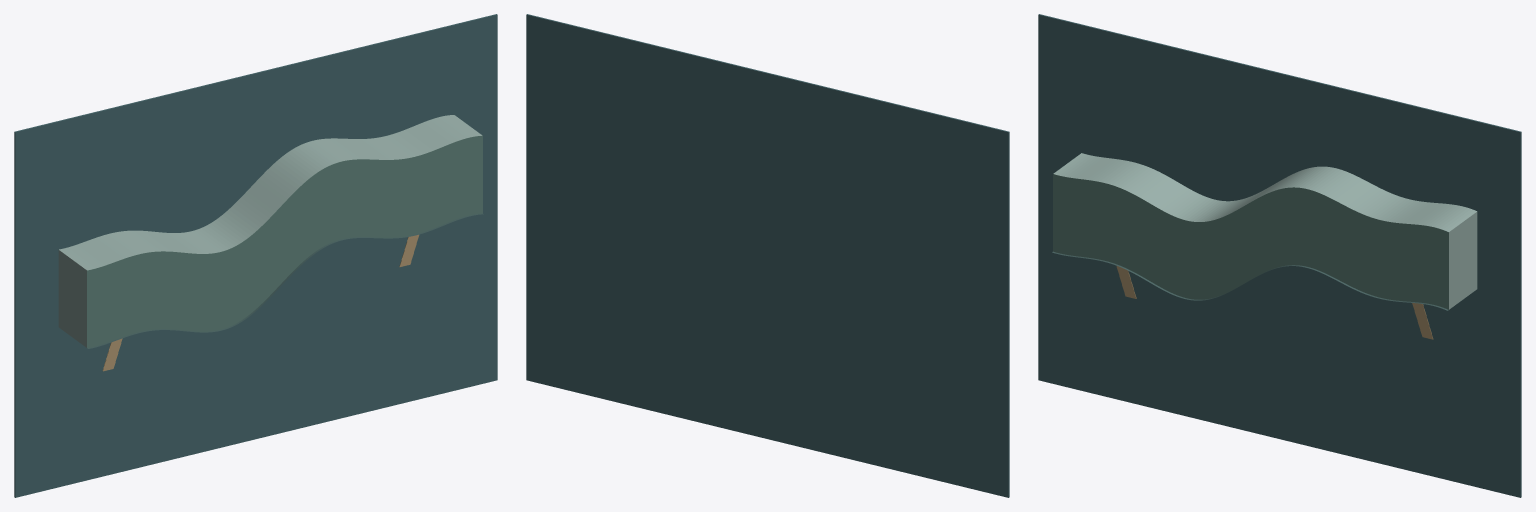
The model's file is b6_shared_occupied_boundary.obj.
3 views of the same model, side by side, from view 1: azimuth 30°, elevation 25°; view 2: azimuth 150°, elevation 25°; view 3: azimuth 330°, elevation 25° (orthographic).
Size of the model in its own units: 156 by 113 by 17.2.
